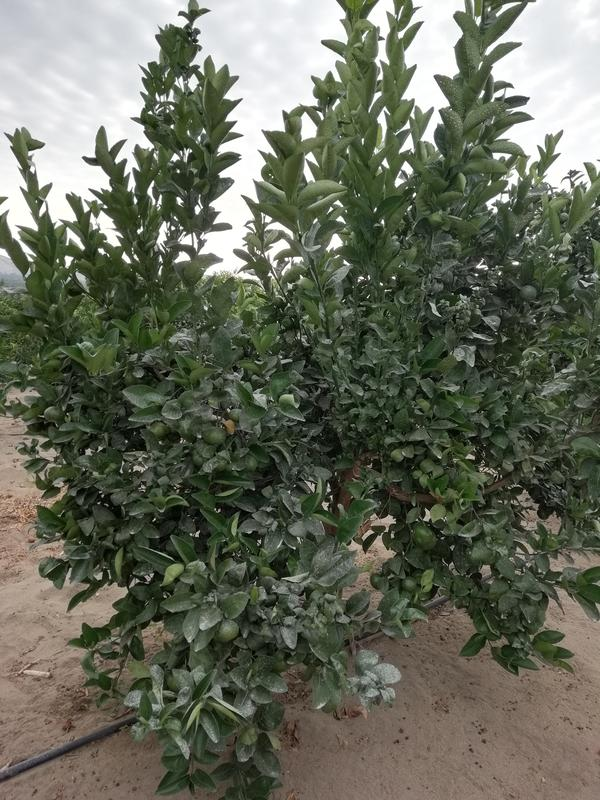mandarina verde: (411, 523, 436, 550), (215, 619, 239, 644), (201, 424, 227, 444), (520, 284, 539, 303), (44, 406, 64, 423), (401, 575, 416, 591)
